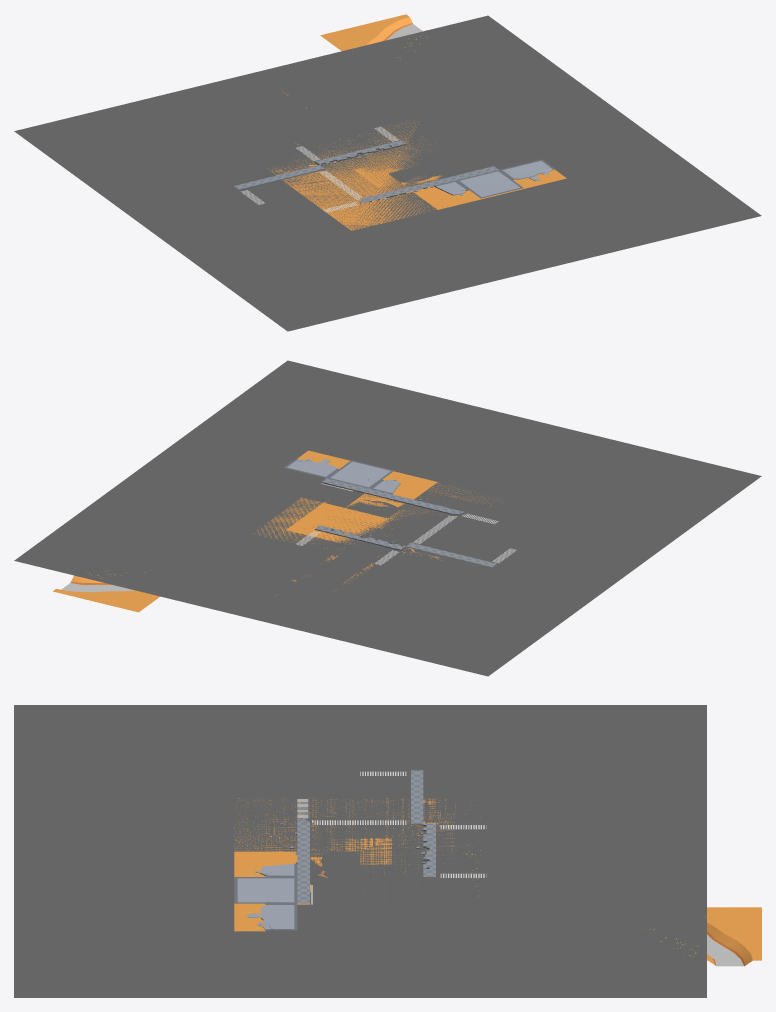
File: Ground.FBX
The picture shows the model from 3 angles, top to bottom: view 1: azimuth 30°, elevation 25°; view 2: azimuth 150°, elevation 25°; view 3: azimuth 270°, elevation 25°; orthographic projection. The views are drawn at different scales.
Parts seen in each view (by area): view 1: asphalt_01_x121, asphalt_01_x16, soil_01_x4, river_Soil_g_04_x4_01, road_soil_03, road_soil_01, road_05_01, road_04_x2, road_soil_04_x2, road_03, asphalt_02; view 2: asphalt_01_x121, asphalt_01_x16, soil_01_x3, river_Soil_g_04_x4_01, asphalt_01_x9, road_03, road_soil_03, soil_01_x4, road_soil_01, road_05_01, road_soil_04_x2, road_04_x2; view 3: asphalt_01_x121, asphalt_01_x16, river_Soil_g_04_x4_01, road_soil_01, road_03, road_soil_03, asphalt_01_x9, road_05_01, road_04_x2, road_soil_04_x2, asphalt_02, soil_01 (+2 smaller).
Boxes of the visible parts, box(x1,y1,x2,y2) form: asphalt_01_x121: box(14, 15, 761, 331); asphalt_01_x16: box(252, 116, 473, 230); soil_01_x4: box(267, 118, 434, 230); river_Soil_g_04_x4_01: box(320, 14, 427, 58); road_soil_03: box(413, 180, 480, 209); road_soil_01: box(500, 159, 566, 188); road_05_01: box(431, 152, 492, 176); road_04_x2: box(234, 165, 344, 204); road_soil_04_x2: box(296, 126, 406, 165); road_03: box(456, 170, 523, 198); asphalt_02: box(388, 163, 441, 184); asphalt_01_x121: box(14, 360, 761, 676); asphalt_01_x16: box(279, 482, 523, 575); soil_01_x3: box(286, 493, 401, 545); river_Soil_g_04_x4_01: box(53, 570, 159, 612); asphalt_01_x9: box(363, 491, 488, 522); road_03: box(327, 460, 393, 488); road_soil_03: box(370, 471, 437, 499); soil_01_x4: box(254, 482, 488, 542); road_soil_01: box(284, 450, 349, 478); road_05_01: box(302, 483, 364, 507); road_soil_04_x2: box(296, 525, 406, 565); road_04_x2: box(406, 529, 516, 567); asphalt_01_x121: box(14, 705, 706, 997); asphalt_01_x16: box(234, 798, 486, 904); river_Soil_g_04_x4_01: box(644, 907, 761, 966); road_soil_01: box(234, 903, 297, 931); road_03: box(234, 877, 297, 903); road_soil_03: box(234, 851, 297, 876); asphalt_01_x9: box(266, 811, 454, 888); road_05_01: box(297, 878, 360, 904); road_04_x2: box(360, 770, 423, 824); road_soil_04_x2: box(416, 823, 486, 877); asphalt_02: box(310, 851, 360, 877); soil_01: box(330, 838, 391, 864).
Size of the model in its own units: 5500 by 61 by 5937.
